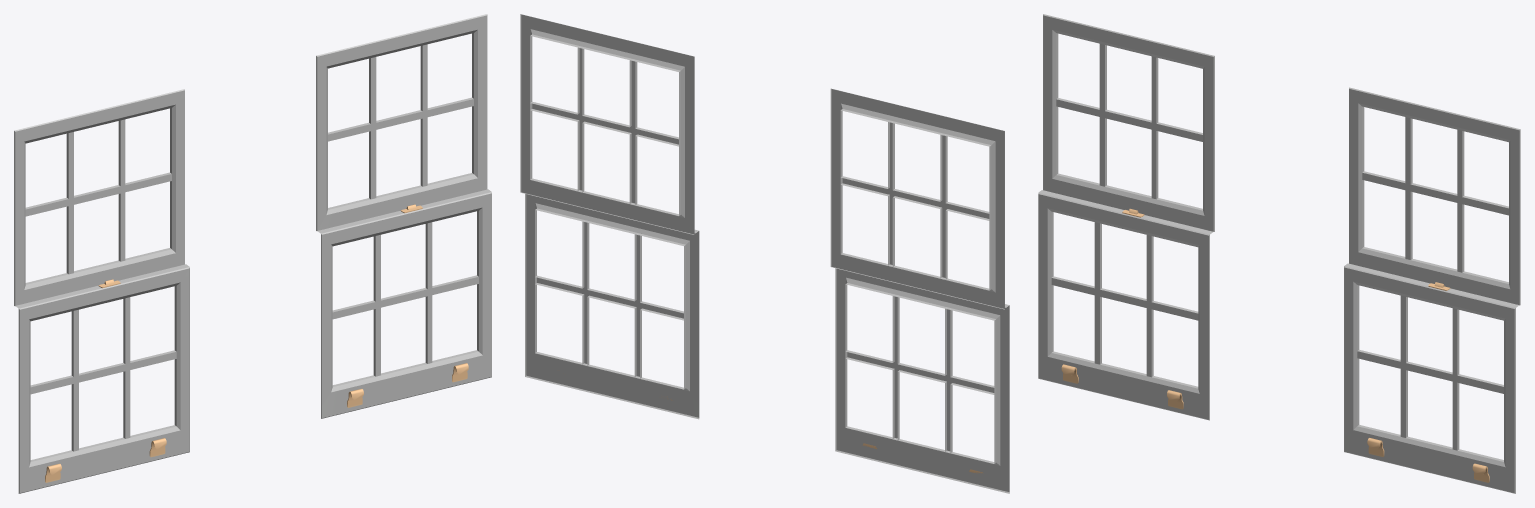
Rendered from Ventana_Marco_H2.obj.
3 renders of one model, left to right at view 1: azimuth 30°, elevation 25°; view 2: azimuth 150°, elevation 25°; view 3: azimuth 330°, elevation 25°, orthographic.
Parts seen in each view (by area): view 1: Ventana_Marco_H2; view 2: Ventana_Marco_H2; view 3: Ventana_Marco_H2.
Boxes of the visible parts, bbox=[...] form: Ventana_Marco_H2: bbox=[14, 14, 491, 493]; Ventana_Marco_H2: bbox=[520, 14, 1009, 493]; Ventana_Marco_H2: bbox=[1038, 14, 1520, 493].
Bounding box in the file's own units: 1.64 × 1.19 × 0.0752.
2 materials, 2 textured.
